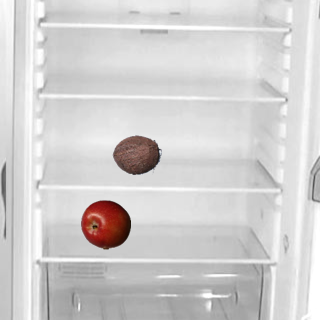Apple Braeburn: (80, 199, 130, 249)
Cocos: (111, 129, 161, 179)
